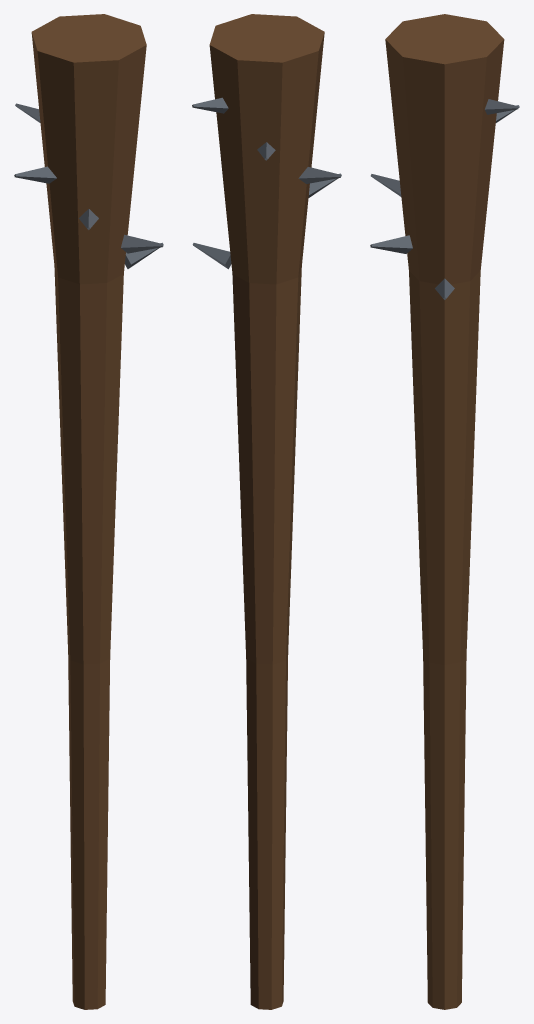
Rendered from g-greatclub.glb.
3 renders of one model, left to right at view 1: azimuth 30°, elevation 25°; view 2: azimuth 150°, elevation 25°; view 3: azimuth 270°, elevation 25°, orthographic.
Parts seen in each view (by area): view 1: g-greatclub; view 2: g-greatclub; view 3: g-greatclub.
Boxes of the visible parts, x1,y1,x2,y2 form: g-greatclub: [14, 14, 163, 1009]; g-greatclub: [192, 14, 341, 1009]; g-greatclub: [370, 14, 519, 1009].
Size of the model in its own units: 0.2008 by 1.25 by 0.1759.
